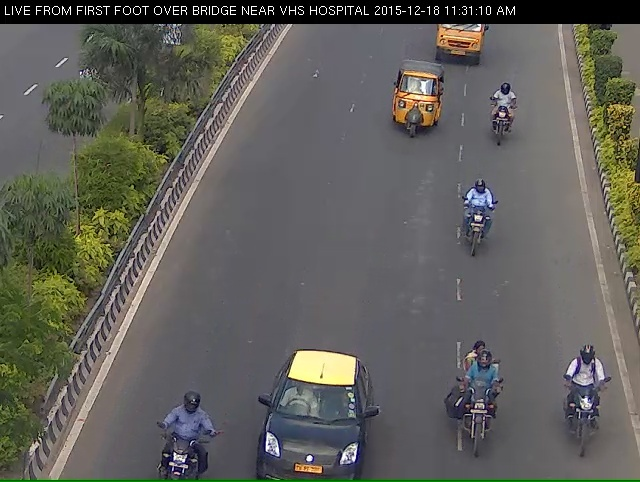Auto: (391, 60, 445, 155), (426, 20, 500, 73)
Car: (249, 376, 382, 480)
Person: (447, 361, 514, 478), (564, 372, 619, 479), (455, 191, 506, 280), (485, 92, 521, 164)
